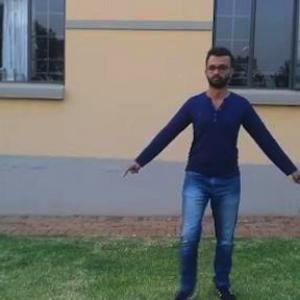land: (133, 50, 300, 299)
